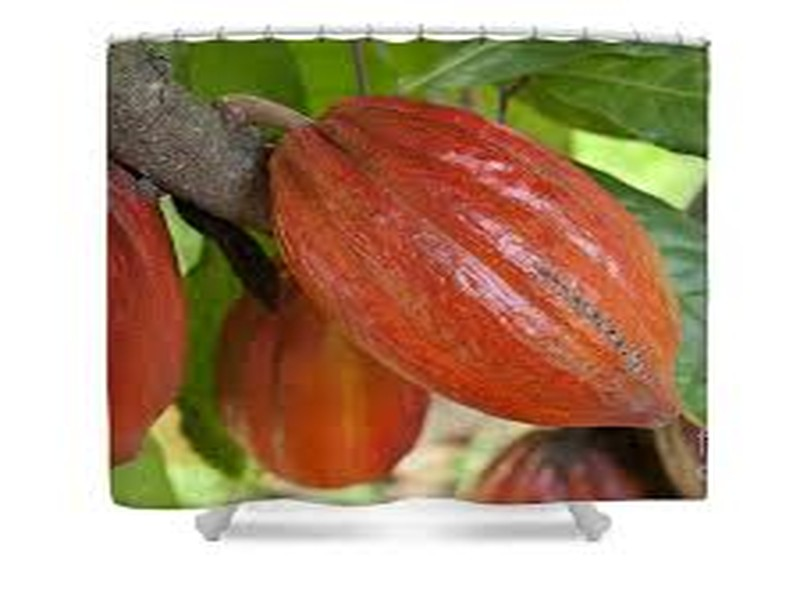Cacaopod: (266, 96, 682, 431)
